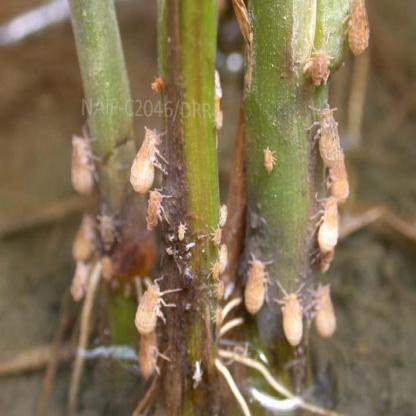brown-planthopper: (129, 128, 167, 192), (134, 276, 168, 332), (67, 132, 96, 196), (314, 193, 340, 257), (277, 290, 304, 348), (312, 284, 338, 340), (314, 107, 340, 163), (243, 258, 268, 314), (347, 0, 369, 56), (95, 210, 120, 254), (144, 192, 168, 233), (308, 44, 332, 84), (262, 146, 276, 175), (176, 218, 188, 242)
